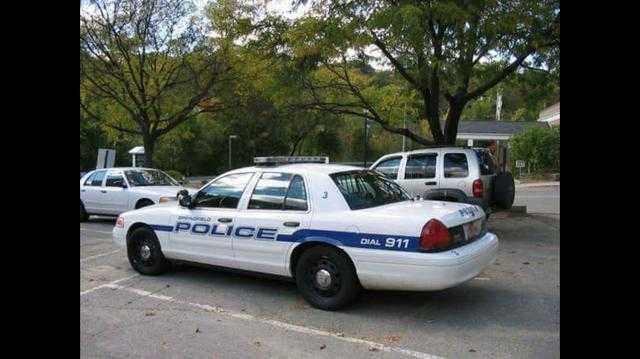Police Car: (114, 146, 490, 297)
